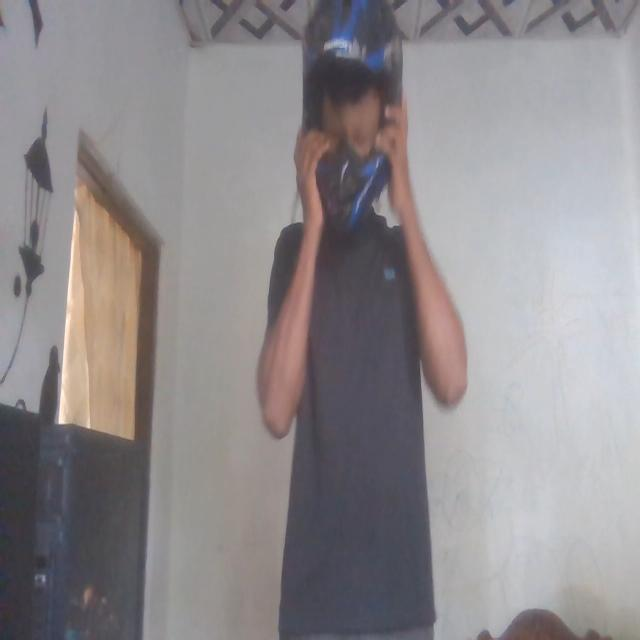Helmet_Wearer: (290, 0, 405, 240)
Person: (262, 0, 462, 640)
